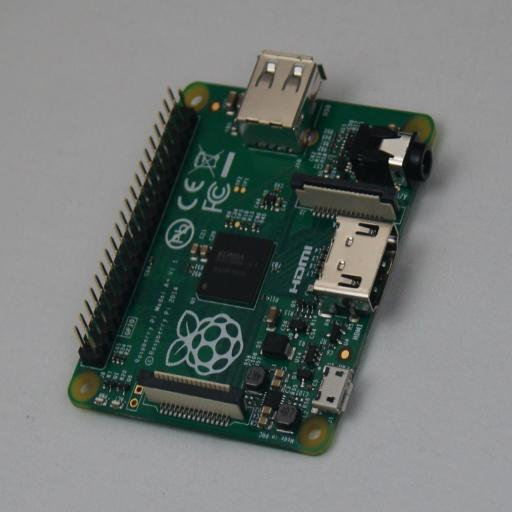Raspberry Pi A-: (68, 56, 440, 456)
